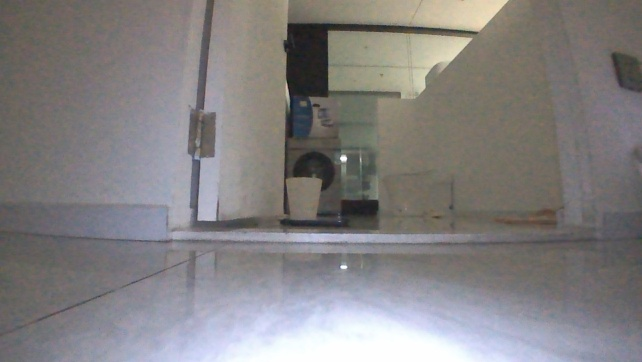toilet: (379, 166, 455, 217)
trash_can: (284, 171, 323, 217)
washing_machine: (281, 134, 346, 215)
weight_scale: (271, 213, 351, 232)
